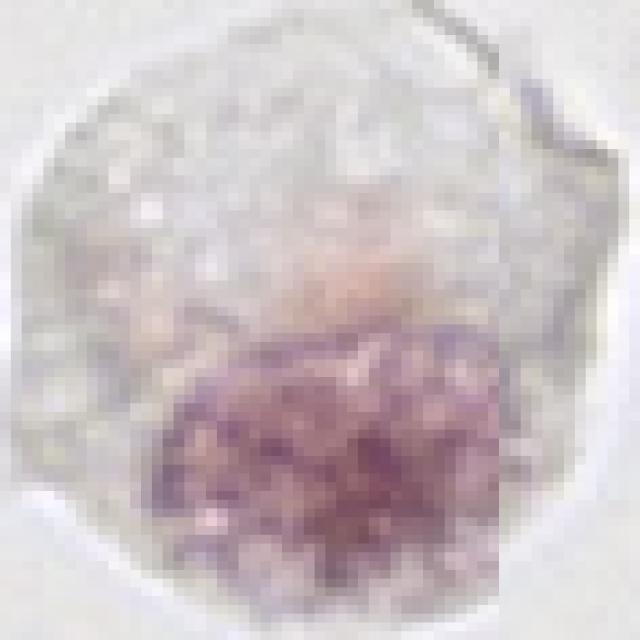nucleus: (143, 323, 525, 611)
